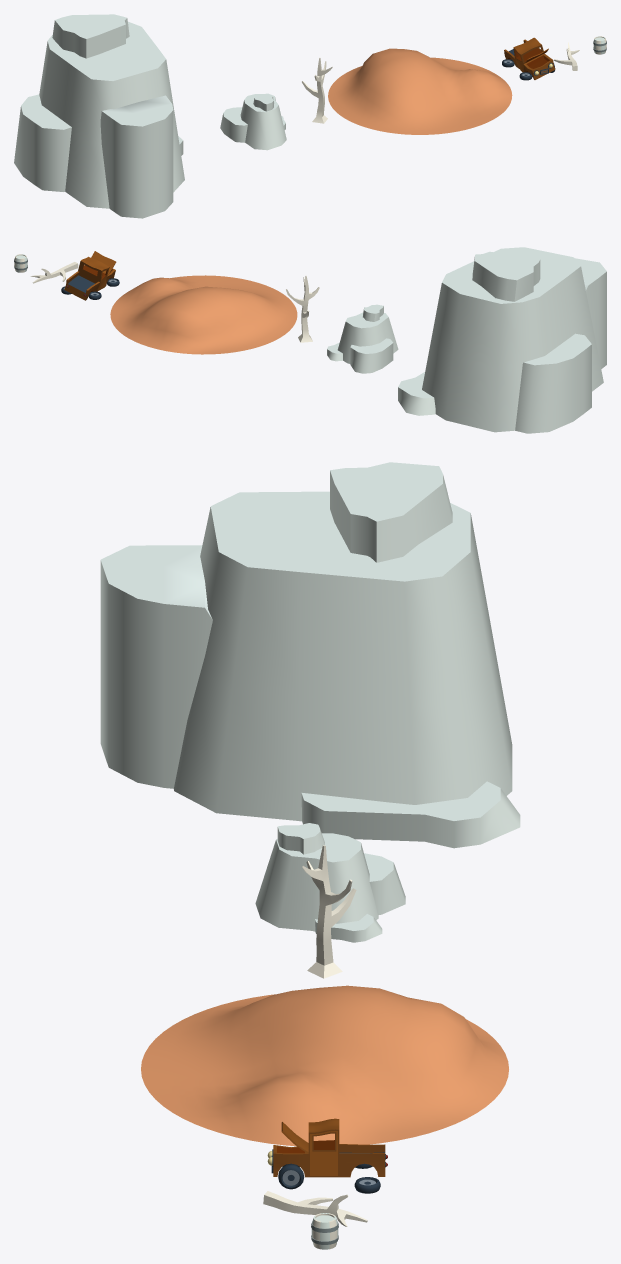
The model's file is Arid_Wastelands_Environment.fbx.
3 renders of one model, top to bottom at view 1: azimuth 30°, elevation 25°; view 2: azimuth 150°, elevation 25°; view 3: azimuth 270°, elevation 25°, orthographic. The views are drawn at different scales.
Visible parts, largest first — view 1: Arid_Wastelands_Environment_Rock.002, Arid_Wastelands_Environment_Sand, Arid_Wastelands_Environment_Rock.001, Arid_Wastelands_Environment_Car, Arid_Wastelands_Environment_Tree; view 2: Arid_Wastelands_Environment_Rock.002, Arid_Wastelands_Environment_Sand, Arid_Wastelands_Environment_Rock.001, Arid_Wastelands_Environment_Car, Arid_Wastelands_Environment_Tree, Arid_Wastelands_Environment_Branch; view 3: Arid_Wastelands_Environment_Rock.002, Arid_Wastelands_Environment_Sand, Arid_Wastelands_Environment_Rock.001, Arid_Wastelands_Environment_Car, Arid_Wastelands_Environment_Tree, Arid_Wastelands_Environment_Branch.
Boxes of the visible parts, box(x1,y1,x2,y2) form: Arid_Wastelands_Environment_Rock.002: box(14, 14, 184, 218); Arid_Wastelands_Environment_Sand: box(328, 48, 512, 134); Arid_Wastelands_Environment_Rock.001: box(220, 93, 286, 150); Arid_Wastelands_Environment_Car: box(502, 37, 555, 80); Arid_Wastelands_Environment_Tree: box(302, 57, 332, 123); Arid_Wastelands_Environment_Rock.002: box(398, 247, 606, 433); Arid_Wastelands_Environment_Sand: box(110, 275, 297, 354); Arid_Wastelands_Environment_Rock.001: box(327, 304, 398, 373); Arid_Wastelands_Environment_Car: box(61, 251, 119, 300); Arid_Wastelands_Environment_Tree: box(286, 275, 319, 342); Arid_Wastelands_Environment_Branch: box(30, 262, 78, 283); Arid_Wastelands_Environment_Rock.002: box(100, 462, 520, 848); Arid_Wastelands_Environment_Sand: box(141, 985, 508, 1146); Arid_Wastelands_Environment_Rock.001: box(255, 823, 405, 942); Arid_Wastelands_Environment_Car: box(267, 1118, 387, 1193); Arid_Wastelands_Environment_Tree: box(302, 845, 356, 978); Arid_Wastelands_Environment_Branch: box(263, 1191, 367, 1226).
Bounding box in the file's own units: 56.62 × 13.11 × 18.18.
